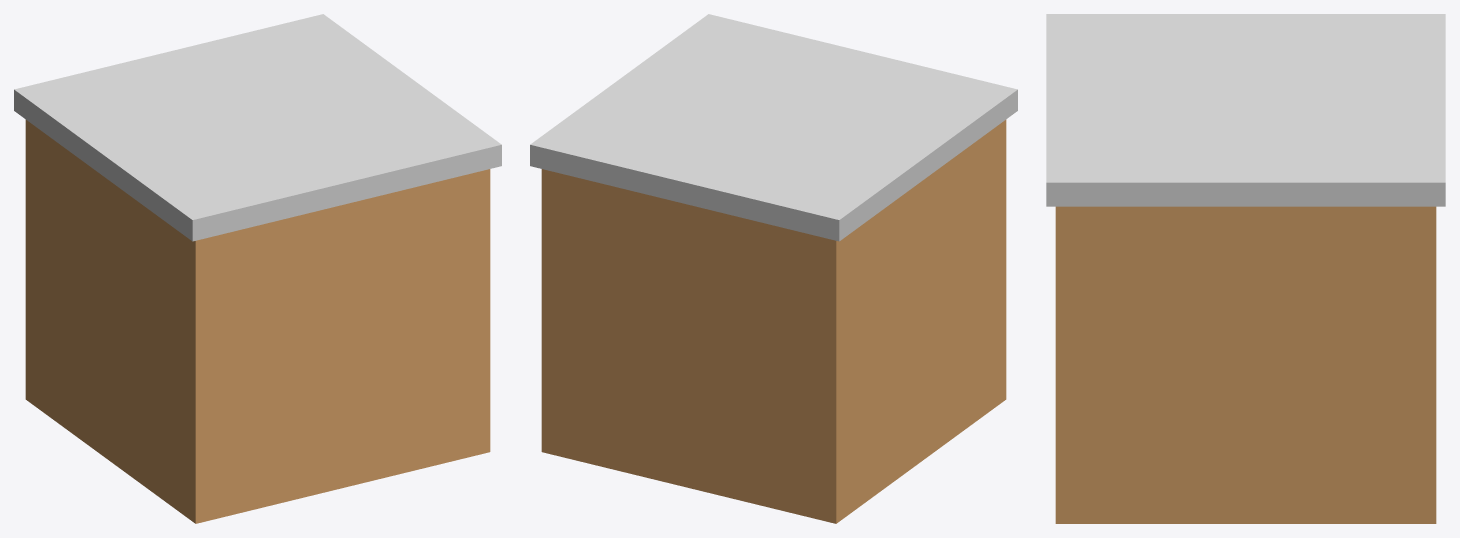
3 renders of one model, left to right at view 1: azimuth 30°, elevation 25°; view 2: azimuth 150°, elevation 25°; view 3: azimuth 270°, elevation 25°, orthographic. The views are drawn at different scales.
Visible parts, largest first — view 1: Room.001, Room.002; view 2: Room.001, Room.002; view 3: Room.001, Room.002.
Boxes of the visible parts, x1,y1,x2,y2 form: Room.001: (25, 119, 490, 523); Room.002: (14, 14, 501, 241); Room.001: (541, 119, 1006, 523); Room.002: (530, 14, 1017, 241); Room.001: (1055, 206, 1436, 523); Room.002: (1046, 14, 1445, 206).
Bounding box in the file's own units: 210 × 200 × 210.
